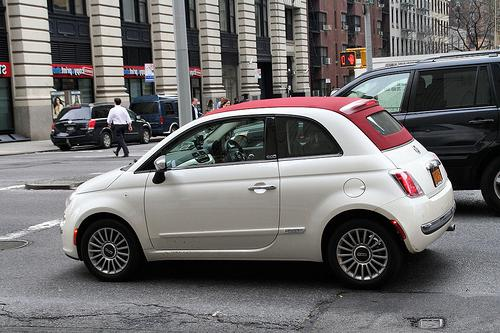Car: (54, 79, 465, 299), (45, 93, 155, 160)
